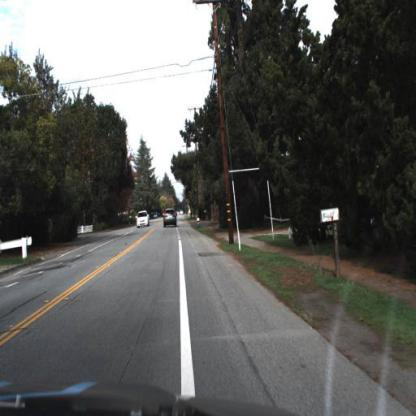car: (163, 205, 180, 228), (137, 210, 151, 228)
